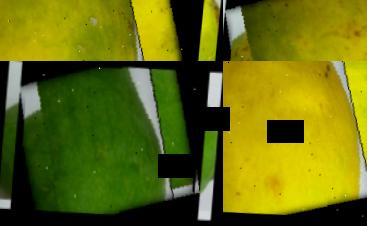PartiallyRipe: (0, 0, 199, 61), (223, 0, 367, 61)
Ripe: (223, 61, 367, 225)
Unripe: (16, 61, 204, 224)
